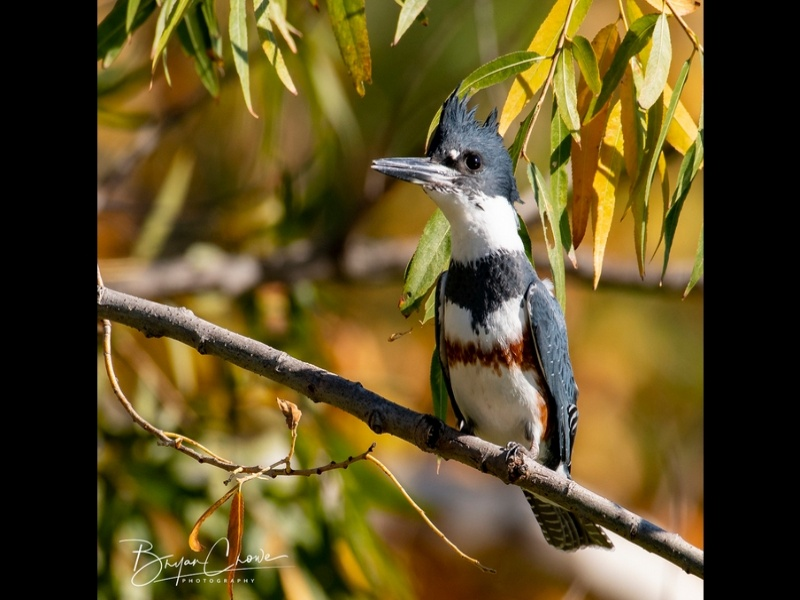kingfisher: (360, 92, 614, 554)
